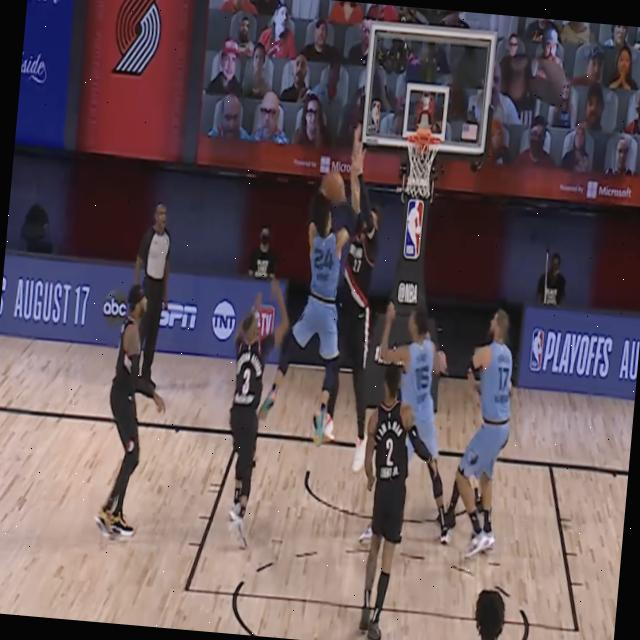foul: (278, 128, 390, 474)
no foul: (346, 294, 447, 640), (341, 360, 429, 640), (437, 308, 514, 558)
